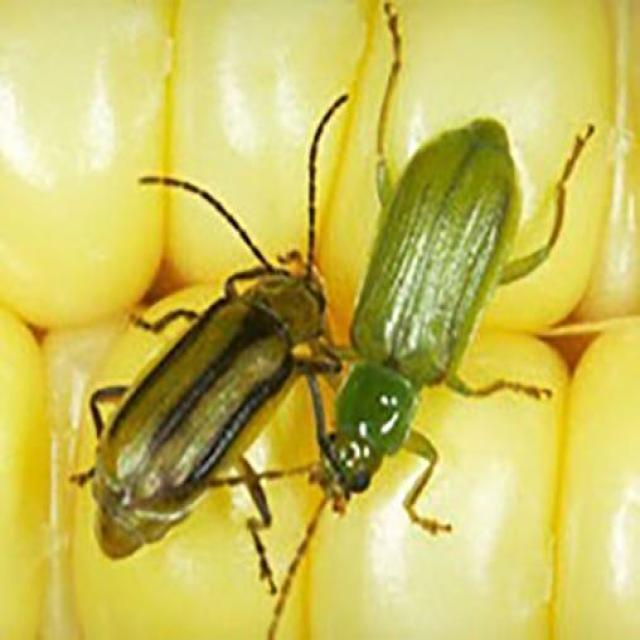gusano_gris: (316, 61, 570, 554)
trips: (72, 186, 320, 566)
